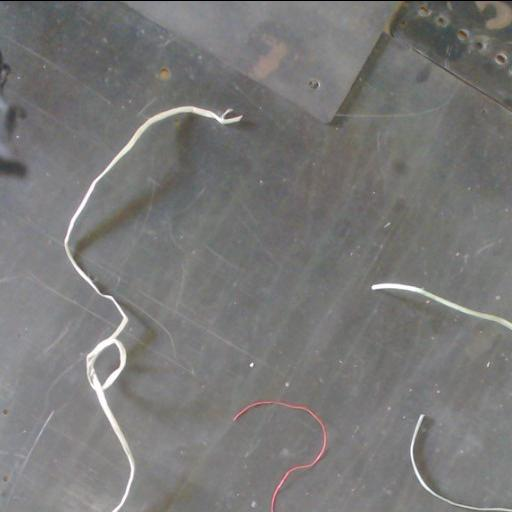conveyor belt: (0, 1, 511, 512)
thread: (64, 105, 239, 512), (233, 400, 325, 512), (410, 414, 511, 512), (372, 283, 511, 329)
